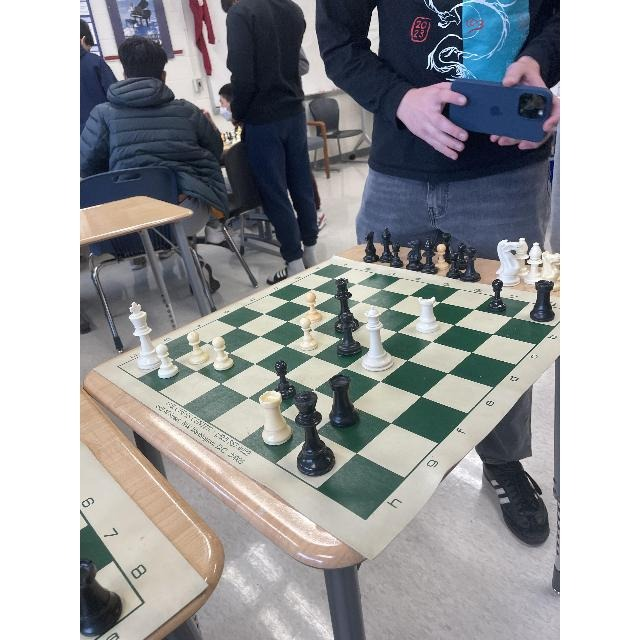black-bishop: (82, 560, 134, 636)
black-pawn: (296, 391, 333, 480), (332, 373, 360, 425), (339, 270, 359, 338), (335, 274, 353, 322), (488, 271, 504, 315)
black-rook: (535, 277, 555, 323)
white-bishop: (131, 309, 167, 375), (504, 241, 523, 285)
white-knight: (434, 414, 482, 495)
white-pawn: (365, 298, 395, 381)
